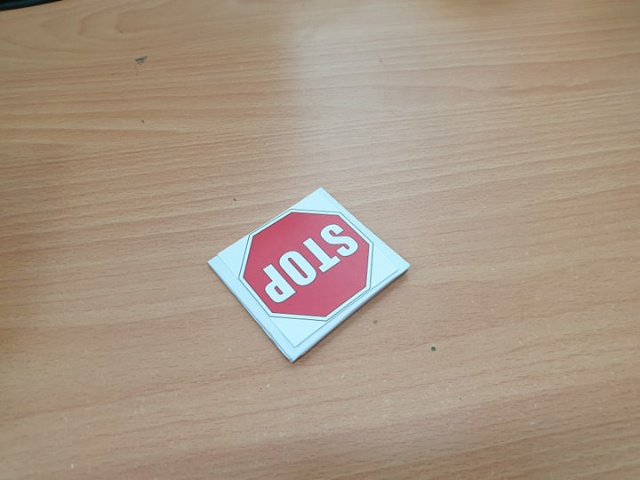Stop: (237, 211, 373, 327)
